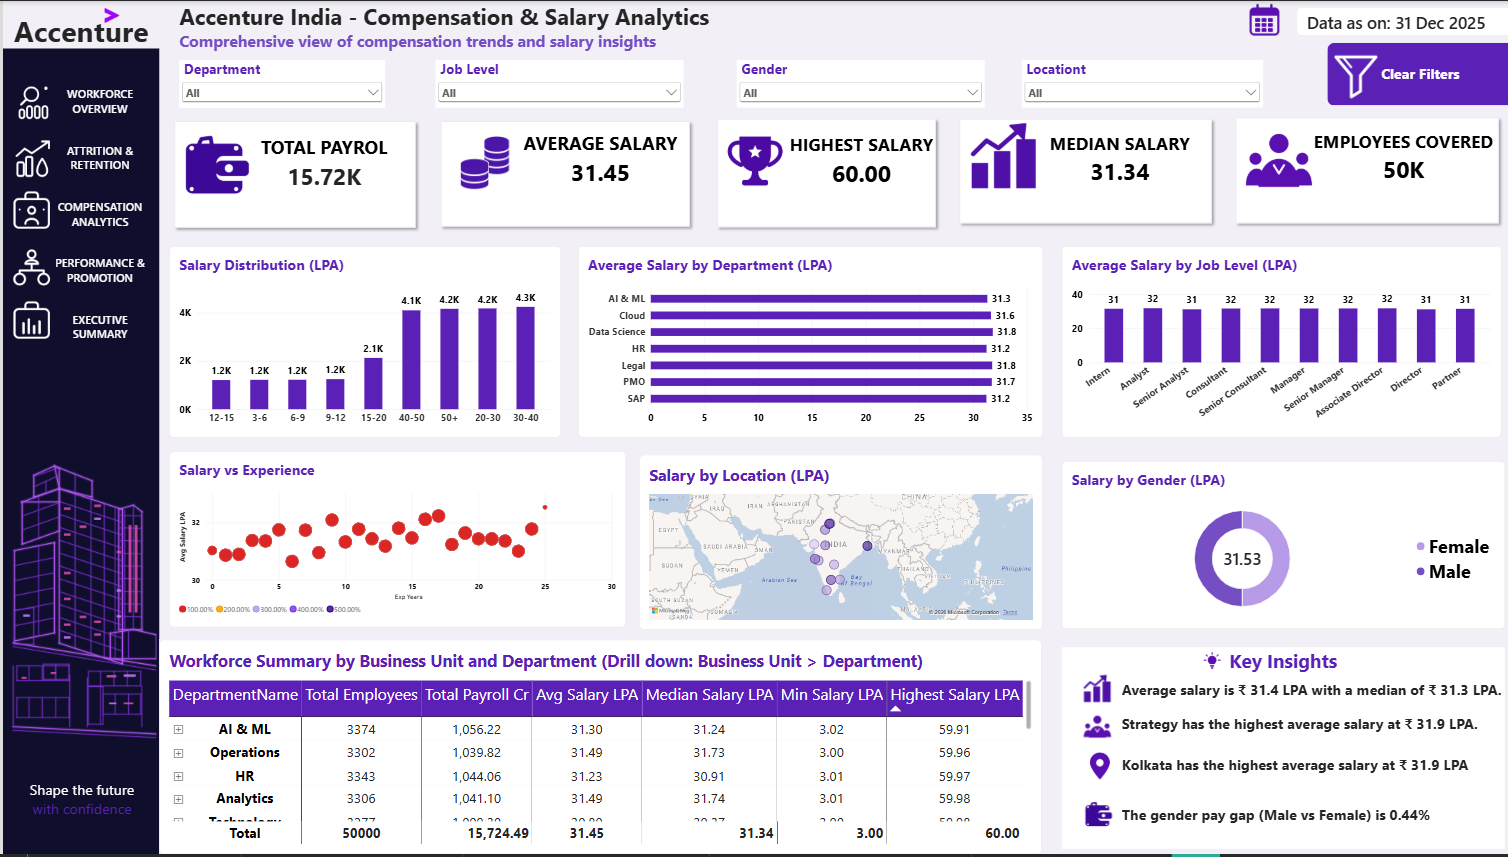

What the dashboard file says about the page in this screenshot:
{"tool":"powerbi","page":{"name":"COMPENSATION ANALYTICS","canvas":[2560,1440],"ordinal":2},"visuals":[{"type":"group","id":"g1","title":"Group 2","box":[0,0,264.6,1440.4],"z":0},{"type":"cardVisual","fields":{"Data":["MeasureTable.Data As On"]},"box":[2182.9,9.7,367.5,48.4],"z":0,"group":"g9"},{"type":"shape","box":[0,80.1,263.6,1360.3],"z":0,"group":"g1"},{"type":"shape","box":[2071.5,189.4,461.7,196.2],"z":0,"group":"g4"},{"type":"shape","box":[1604.1,189.6,443.2,194.1],"z":0,"group":"g5"},{"type":"shape","box":[1194.9,189.9,387.1,200.7],"z":0,"group":"g6"},{"type":"shape","box":[730.3,194.8,437.7,195.3],"z":0,"group":"g7"},{"type":"shape","box":[280.5,195.1,424.5,197.2],"z":0,"group":"g3"},{"type":"textbox","box":[1785.8,1090.6,747.4,340.4],"z":0,"group":"g8"},{"type":"image","box":[2073.4,0,110.4,62.3],"z":1000,"group":"g9"},{"type":"textbox","box":[0,16.2,264.3,64.7],"z":1000,"group":"g1"},{"type":"group","id":"g2","title":"Group 3","box":[2234,62.3,316.4,122.2],"z":1000},{"type":"cardVisual","fields":{"Data":["MeasureTable.Highest Salary LPA"]},"box":[1274.2,159.5,345.2,218.1],"z":1000,"group":"g6"},{"type":"cardVisual","fields":{"Data":["MeasureTable.Total Payroll Cr"]},"box":[339.2,160.4,405.1,227.7],"z":1000,"group":"g3"},{"type":"cardVisual","fields":{"Data":["MeasureTable.Avg Salary LPA"]},"box":[806.2,160.4,405.1,213.3],"z":1000,"group":"g7"},{"type":"cardVisual","fields":{"Data":["MeasureTable.Median Salary LPA"]},"box":[1680.7,162.6,407.5,208.5],"z":1000,"group":"g5"},{"type":"cardVisual","fields":{"Data":["MeasureTable.Employees Covered"]},"box":[2168.7,163.2,390.7,201.3],"z":1000,"group":"g4"},{"type":"textbox","box":[1886.6,1144.6,647.1,51.2],"z":1000,"group":"g8"},{"type":"image","box":[163.6,0,37.8,48.5],"z":2000,"group":"g1"},{"type":"group","id":"g3","title":"Group 1","box":[280.5,160.4,463.8,231.9],"z":2000},{"type":"image","box":[2089.4,198.3,129.4,132.9],"z":2000,"group":"g4"},{"type":"image","box":[1621.4,201.4,133.5,128.6],"z":2000,"group":"g5"},{"type":"image","box":[1210,202,116.6,133],"z":2000,"group":"g6"},{"type":"image","box":[297.1,207,127.8,130.7],"z":2000,"group":"g3"},{"type":"image","box":[749.5,222.6,129.8,101],"z":2000,"group":"g7"},{"type":"textbox","box":[1886.6,1202.7,647.1,61.5],"z":2000,"group":"g8"},{"type":"group","id":"g4","title":"Group 1","box":[2071.5,163.2,487.9,222.4],"z":3000},{"type":"textbox","box":[1886.6,1271,647.1,77.9],"z":3000,"group":"g8"},{"type":"group","id":"g5","title":"Group 1","box":[1604.1,162.6,484,221.1],"z":4000},{"type":"image","box":[2.1,761.3,261.5,508.3],"z":4000,"group":"g1"},{"type":"textbox","box":[1886.6,1355.6,647.1,53.3],"z":4000,"group":"g8"},{"type":"image","box":[2.1,132.9,99.1,73.8],"z":5000,"group":"g1"},{"type":"group","id":"g6","title":"Group 1","box":[1194.9,159.5,424.4,231.1],"z":5000},{"type":"image","box":[1810.3,1135.1,69.2,53.3],"z":5000,"group":"g8"},{"type":"group","id":"g7","title":"Group 1","box":[730.3,160.4,481,229.7],"z":6000},{"type":"image","box":[4.2,227.8,97,78],"z":6000,"group":"g1"},{"type":"image","box":[1810.3,1195,69.2,53.3],"z":6000,"group":"g8"},{"type":"slicer","fields":{"Values":["DimJobLevel.JobLevel"]},"box":[730,98.1,418.4,80.8],"z":7000},{"type":"image","box":[0,310,97,82.2],"z":7000,"group":"g1"},{"type":"image","box":[1815.1,1264.1,69.2,53.3],"z":7000,"group":"g8"},{"type":"slicer","fields":{"Values":["DimDepartment.DepartmentName"]},"box":[297.2,98.1,347.6,81.5],"z":8000},{"type":"image","box":[0,411.2,97,82.2],"z":8000,"group":"g1"},{"type":"image","box":[2004.5,1096.2,69.2,34.8],"z":8000,"group":"g8"},{"type":"slicer","fields":{"Values":["DimEmployee.Gender"]},"box":[1237.9,98.1,418.4,80.8],"z":9000},{"type":"image","box":[0,495.6,97,82.2],"z":9000,"group":"g1"},{"type":"image","box":[1812.7,1343.6,69.2,53.3],"z":9000,"group":"g8"},{"type":"slicer","fields":{"Values":["DimLocation.City"]},"box":[1719.8,98.1,406.9,80.8],"z":10000},{"type":"pageNavigator","box":[62.3,127,201.3,469.8],"z":10000,"group":"g1"},{"type":"textbox","box":[297.2,0,940.7,98.1],"z":11000},{"type":"textbox","box":[2.1,1313.9,262.5,75.5],"z":11000,"group":"g1"},{"type":"clusteredColumnChart","title":"Salary Distribution (LPA)","fields":{"Category":["FactWorkforce.Salary Band"],"Y":["MeasureTable.Employees Covered"]},"box":[279.9,412.6,660.8,323.2],"z":12000},{"type":"clusteredBarChart","title":"Average Salary by Department (LPA)","fields":{"Category":["DimDepartment.DepartmentName"],"Y":["MeasureTable.Avg Salary LPA"]},"box":[969.5,412.6,784.9,323.2],"z":13000},{"type":"clusteredColumnChart","title":"Average Salary by Job Level (LPA)","fields":{"Category":["DimJobLevel.JobLevel"],"Y":["MeasureTable.Avg Salary LPA"]},"box":[1786.1,412.6,741.6,323.2],"z":14000},{"type":"scatterChart","title":"Salary vs Experience","fields":{"Series":["FactPerformance.PerformanceRating"],"Size":["MeasureTable.Employees Covered"],"X":["FactWorkforce.Exp Years"],"Y":["MeasureTable.Avg Salary LPA"]},"box":[280.4,759.9,770.4,297.2],"z":15000},{"type":"map","title":"Salary by Location (LPA)","fields":{"Category":["DimLocation.City"],"Size":["MeasureTable.Employees Covered"]},"box":[1073.9,764.6,680.7,294.8],"z":16000},{"type":"donutChart","title":"Salary by Gender (LPA)","fields":{"Category":["DimEmployee.Gender"],"Y":["MeasureTable.Avg Salary LPA"]},"box":[1785.8,776.6,747.9,282.8],"z":17000},{"type":"pivotTable","title":"Workforce Summary by Business Unit and Department (Drill down: Business Unit > Department)","fields":{"Rows":["DimDepartment.DepartmentName","DimJobLevel.JobLevel"],"Values":["MeasureTable.Total Employees","MeasureTable.Total Payroll Cr","MeasureTable.Avg Salary LPA","MeasureTable.Median Salary LPA","MeasureTable.Min Salary LPA","MeasureTable.Highest Salary LPA"]},"box":[263.7,1078.7,1488.5,361.9],"z":18000},{"type":"group","id":"g8","title":"Group 4","box":[1785.8,1090.6,747.9,340.4],"z":19000},{"type":"group","id":"g9","title":"Group 3","box":[2073.4,0,477,62.3],"z":19001},{"type":"actionButton","box":[2234,68.7,316.4,107.9],"z":28000,"group":"g2"},{"type":"image","box":[2234,62.3,98.3,122.2],"z":29000,"group":"g2"}]}

Visuals, with their boxes on the page's 2560x1440 design canvas (x1, y1, x2, y2). These are canvas units, not pixel positions in the 1508x857 screenshot, which may show the page scaled, cropped or inside an application window:
"Group 2" group: region(0, 0, 265, 1440)
cardVisual - MeasureTable.Data As On: region(2183, 10, 2550, 58)
shape: region(0, 80, 264, 1440)
shape: region(2072, 189, 2533, 386)
shape: region(1604, 190, 2047, 384)
shape: region(1195, 190, 1582, 391)
shape: region(730, 195, 1168, 390)
shape: region(280, 195, 705, 392)
textbox: region(1786, 1091, 2533, 1431)
image: region(2073, 0, 2184, 62)
textbox: region(0, 16, 264, 81)
"Group 3" group: region(2234, 62, 2550, 184)
cardVisual - MeasureTable.Highest Salary LPA: region(1274, 160, 1619, 378)
cardVisual - MeasureTable.Total Payroll Cr: region(339, 160, 744, 388)
cardVisual - MeasureTable.Avg Salary LPA: region(806, 160, 1211, 374)
cardVisual - MeasureTable.Median Salary LPA: region(1681, 163, 2088, 371)
cardVisual - MeasureTable.Employees Covered: region(2169, 163, 2559, 364)
textbox: region(1887, 1145, 2534, 1196)
image: region(164, 0, 201, 48)
"Group 1" group: region(280, 160, 744, 392)
image: region(2089, 198, 2219, 331)
image: region(1621, 201, 1755, 330)
image: region(1210, 202, 1327, 335)
image: region(297, 207, 425, 338)
image: region(750, 223, 879, 324)
textbox: region(1887, 1203, 2534, 1264)
"Group 1" group: region(2072, 163, 2559, 386)
textbox: region(1887, 1271, 2534, 1349)
"Group 1" group: region(1604, 163, 2088, 384)
image: region(2, 761, 264, 1270)
textbox: region(1887, 1356, 2534, 1409)
image: region(2, 133, 101, 207)
"Group 1" group: region(1195, 160, 1619, 391)
image: region(1810, 1135, 1880, 1188)
"Group 1" group: region(730, 160, 1211, 390)
image: region(4, 228, 101, 306)
image: region(1810, 1195, 1880, 1248)
slicer - DimJobLevel.JobLevel: region(730, 98, 1148, 179)
image: region(0, 310, 97, 392)
image: region(1815, 1264, 1884, 1317)
slicer - DimDepartment.DepartmentName: region(297, 98, 645, 180)
image: region(0, 411, 97, 493)
image: region(2004, 1096, 2074, 1131)
slicer - DimEmployee.Gender: region(1238, 98, 1656, 179)
image: region(0, 496, 97, 578)
image: region(1813, 1344, 1882, 1397)
slicer - DimLocation.City: region(1720, 98, 2127, 179)
pageNavigator: region(62, 127, 264, 597)
textbox: region(297, 0, 1238, 98)
textbox: region(2, 1314, 265, 1389)
"Salary Distribution (LPA)" clusteredColumnChart: region(280, 413, 941, 736)
"Average Salary by Department (LPA)" clusteredBarChart: region(970, 413, 1754, 736)
"Average Salary by Job Level (LPA)" clusteredColumnChart: region(1786, 413, 2528, 736)
"Salary vs Experience" scatterChart: region(280, 760, 1051, 1057)
"Salary by Location (LPA)" map: region(1074, 765, 1755, 1059)
"Salary by Gender (LPA)" donutChart: region(1786, 777, 2534, 1059)
"Workforce Summary by Business Unit and Department (Drill down: Business Unit > Department)" pivotTable: region(264, 1079, 1752, 1441)
"Group 4" group: region(1786, 1091, 2534, 1431)
"Group 3" group: region(2073, 0, 2550, 62)
actionButton: region(2234, 69, 2550, 177)
image: region(2234, 62, 2332, 184)
